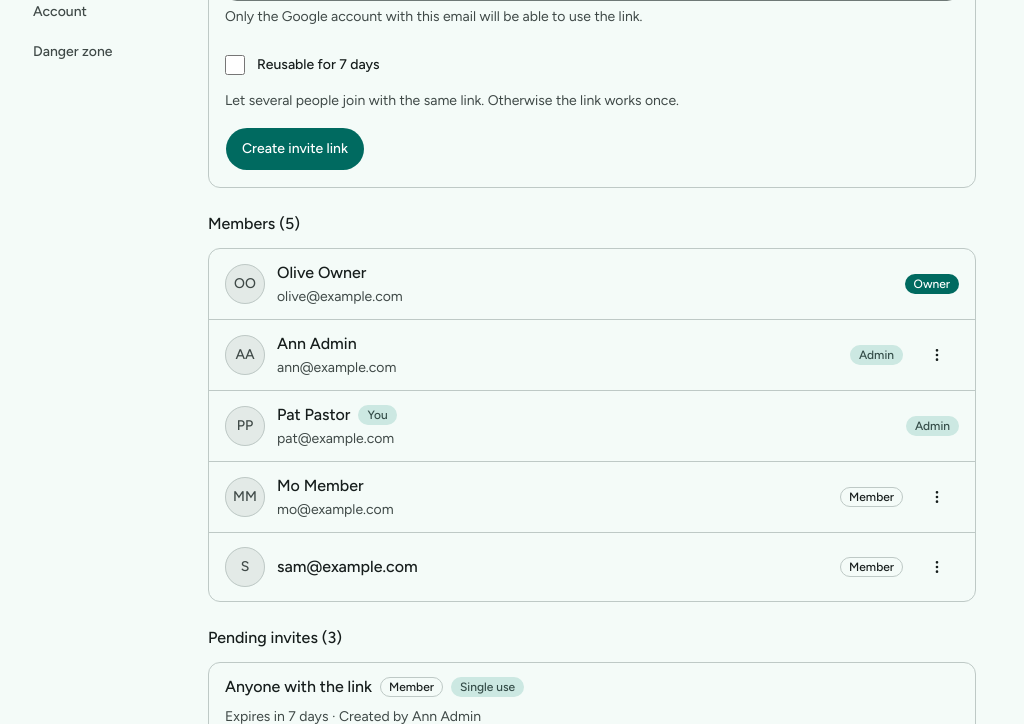
Test case: Settings → People: Members (slice 6b-2a) › asks before removing, says which links stop working, and revokes the reusable ones when left checked
The image size is (1024, 724).
(page scrolled)
What coordinates should you click on to do the following:
click the button named "Actions for Ann Admin"
I would click on:
 (937, 355)
Its box is left=915, top=333, right=959, bottom=377.
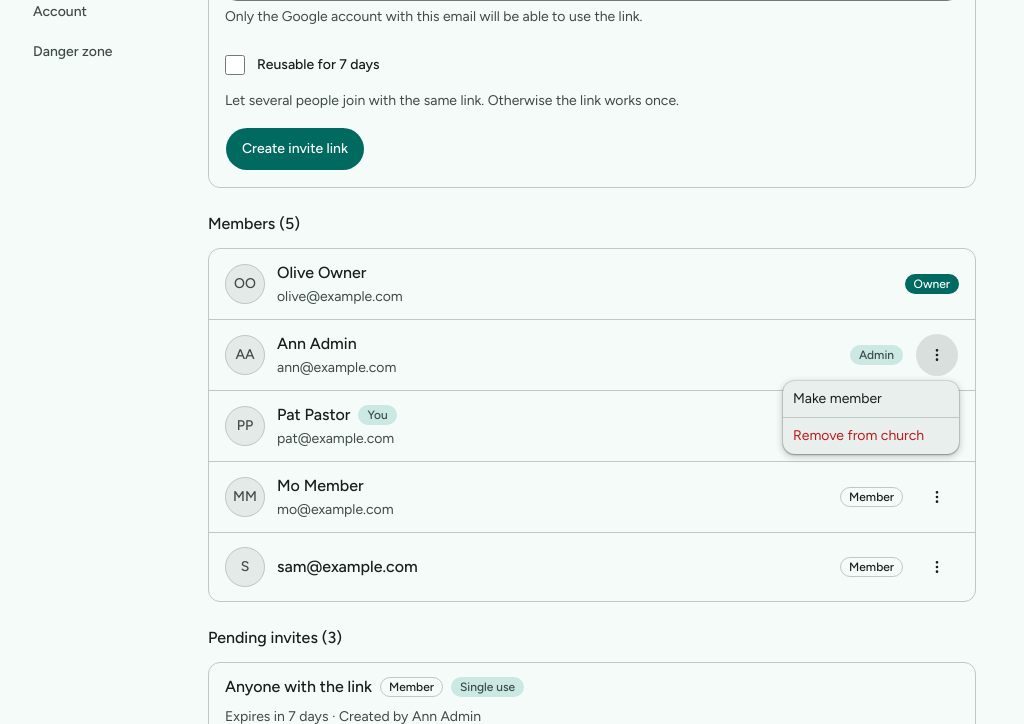
What coordinates should you click on to do the following:
click the menu item "Remove from church"
I would click on:
 (859, 436)
Its box is left=793, top=427, right=924, bottom=444.
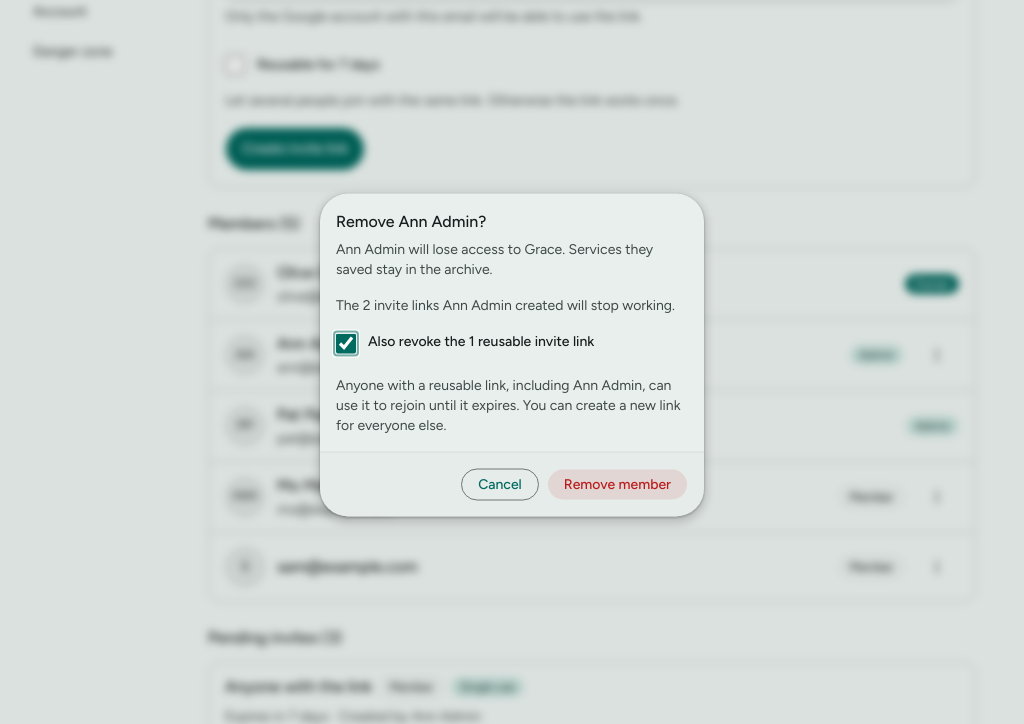
What coordinates should you click on to do the following:
click the button "Remove member"
I would click on:
 (617, 484)
Its box is left=547, top=468, right=688, bottom=500.
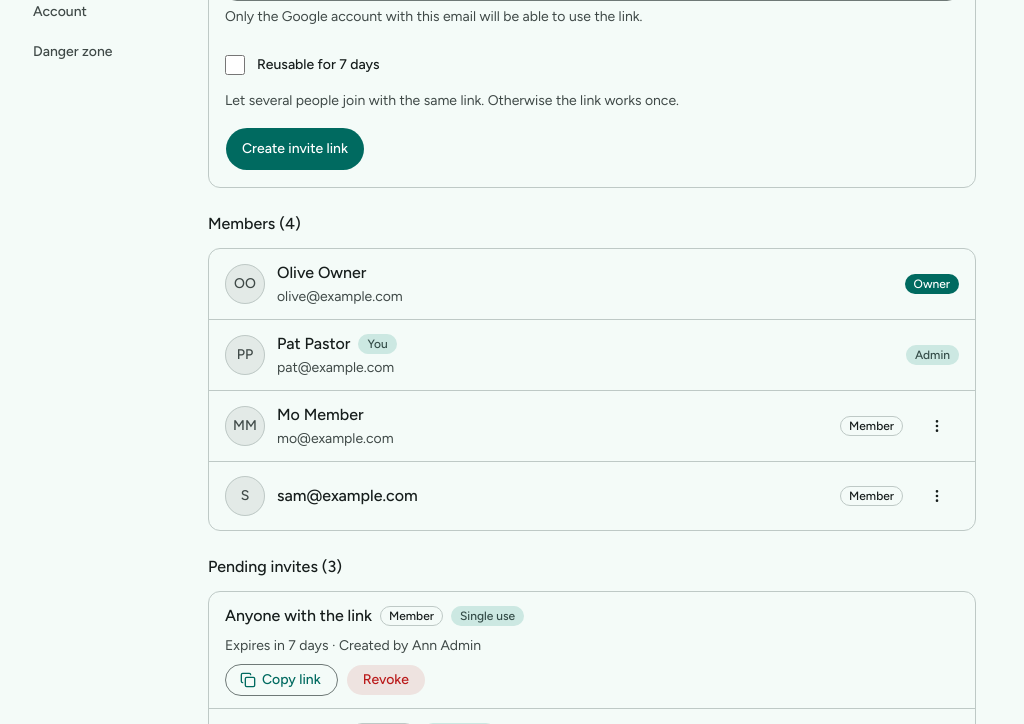
Now the dialog is gone
